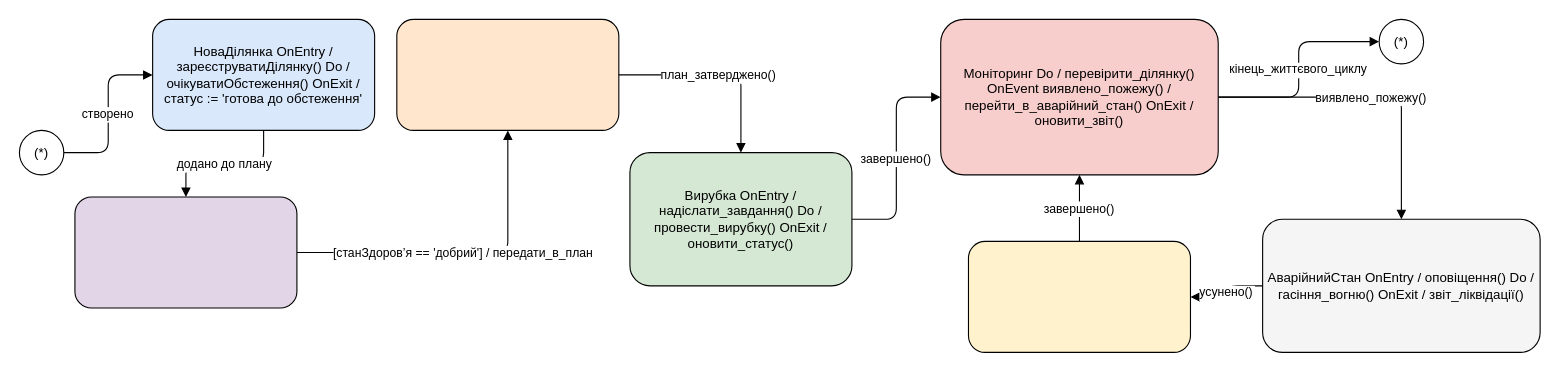
Some shapes in this 1560 by 372 pixel diagram are drawn without their labels. The box of each missing label's shape, as (x1, y1, x2, y2) in pixels:
Відновлення Do / посадити_ліс() OnExit / оновити_карту(): (967, 240, 1190, 352)
Обстеження Do / провести_аналіз() OnExit / статус := 'обстежено': (74, 196, 297, 308)
Планування Do / розробити_план() OnExit / зберегти_план(): (396, 18, 619, 130)
